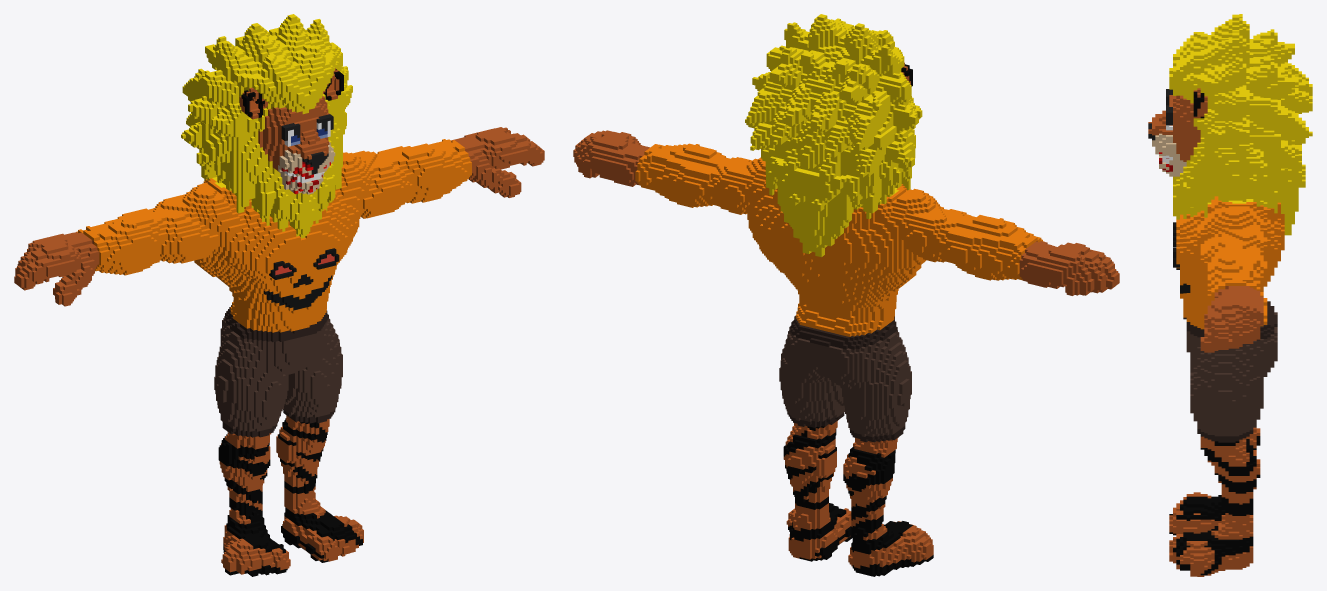
3 views of the same model, side by side, from view 1: azimuth 30°, elevation 25°; view 2: azimuth 150°, elevation 25°; view 3: azimuth 270°, elevation 25° (orthographic). The views are drawn at different scales.
Parts seen in each view (by area): view 1: blood; view 2: blood; view 3: blood.
Part boxes in pixels (x1,y1,x2,y2): blood: (14, 14, 544, 576); blood: (573, 14, 1119, 576); blood: (1148, 14, 1312, 576).
Size of the model in its own units: 17.2 by 16.5 by 4.7.
5 materials, 5 textured.
